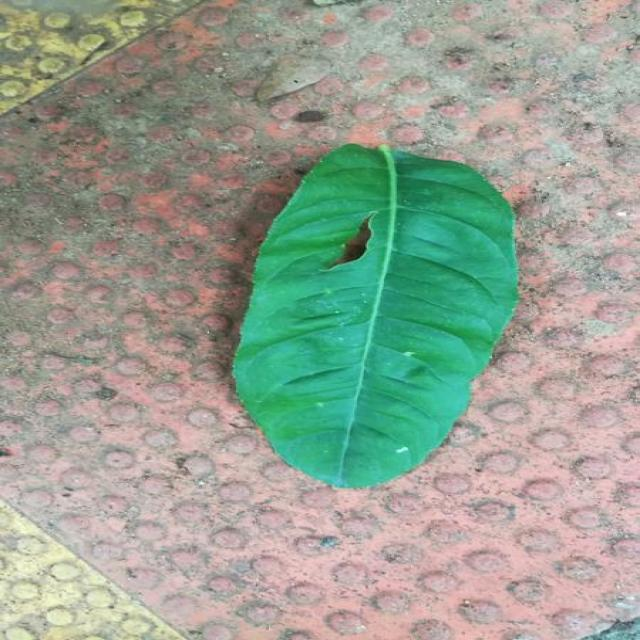badipala: (233, 144, 518, 487)
defectedbadipala: (328, 218, 372, 267)
